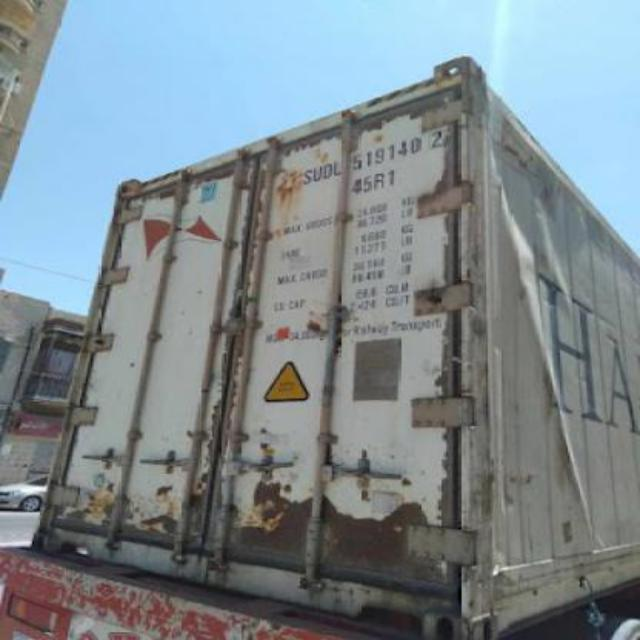0: (410, 136, 422, 154)
1: (387, 144, 395, 160), (366, 150, 372, 168)
2: (429, 130, 445, 150)
4: (397, 140, 409, 158)
5: (353, 154, 363, 170)
9: (374, 148, 386, 164)
D: (323, 163, 332, 179)
S: (304, 168, 312, 186)
U: (333, 158, 343, 176), (314, 165, 322, 182)
